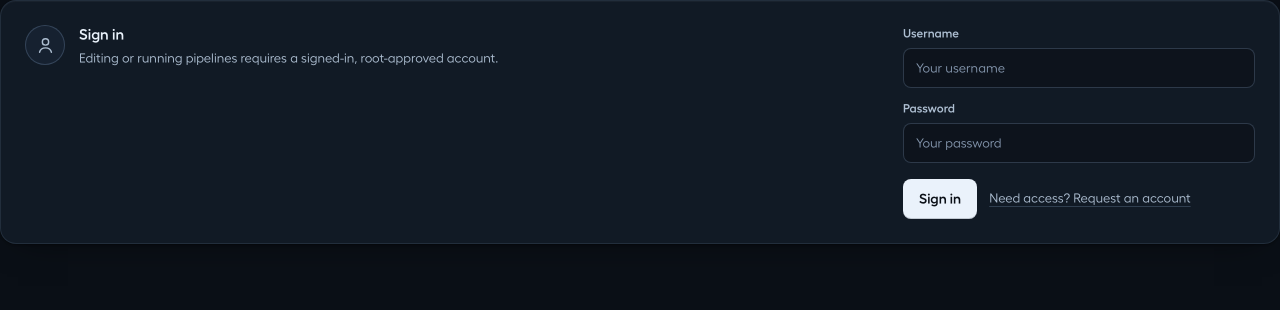
Test case: AdminAuthPanel › lets a visitor switch to registration and shows the pending notice
The width and height of the screenshot is (1280, 310).
Click the button "Need access? Request an account" at (1090, 199), box [983, 183, 1197, 215]
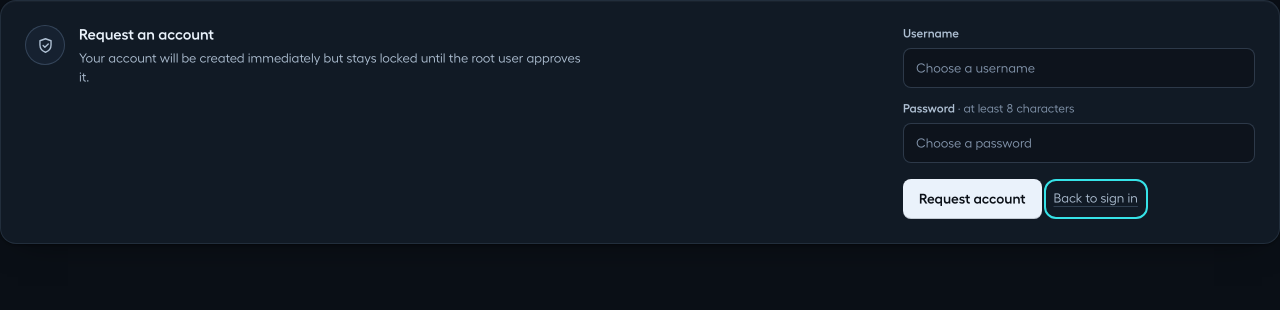
Type "alice" into the field with placeholder "Choose a username" at (1079, 68), box [903, 48, 1255, 88]
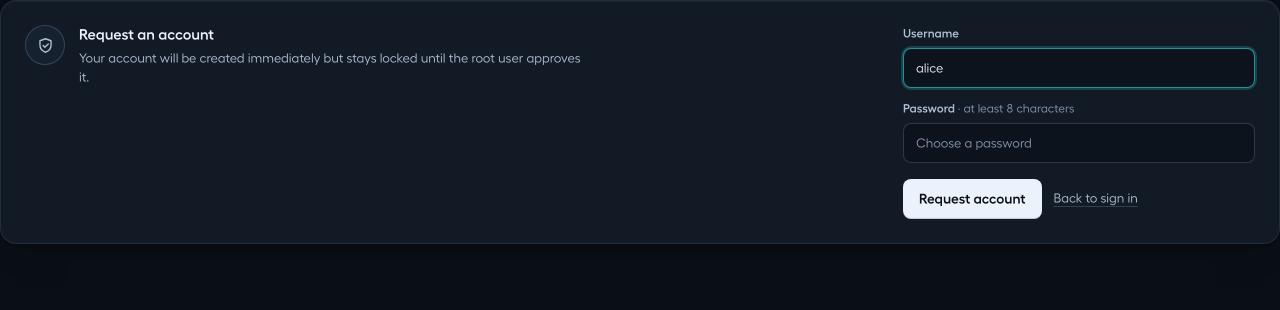
Type "alice password!" into the password field with placeholder "Choose a password" at (1079, 143), box [903, 123, 1255, 163]
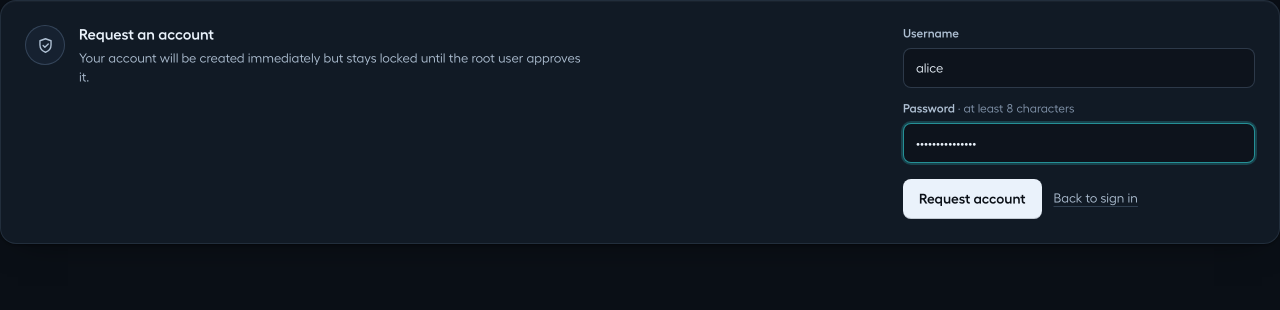
Click the button "Request account" at (972, 199), box [903, 179, 1042, 219]
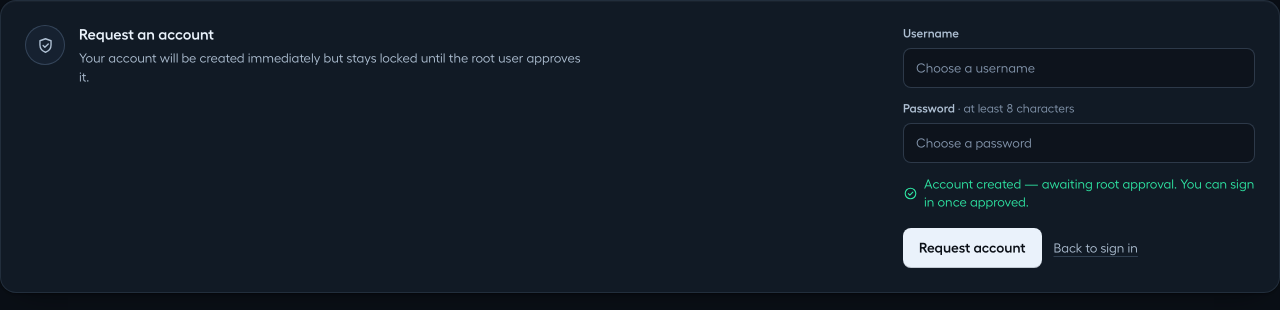
Expected: the text "awaiting root approval" is shown, [924, 177, 1254, 208]
